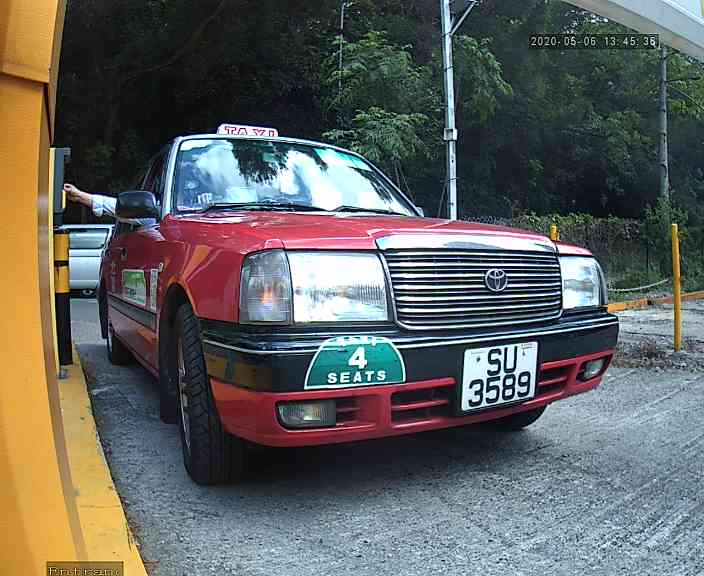taxi: (65, 105, 640, 487)
taxi_mark: (296, 323, 423, 405)
